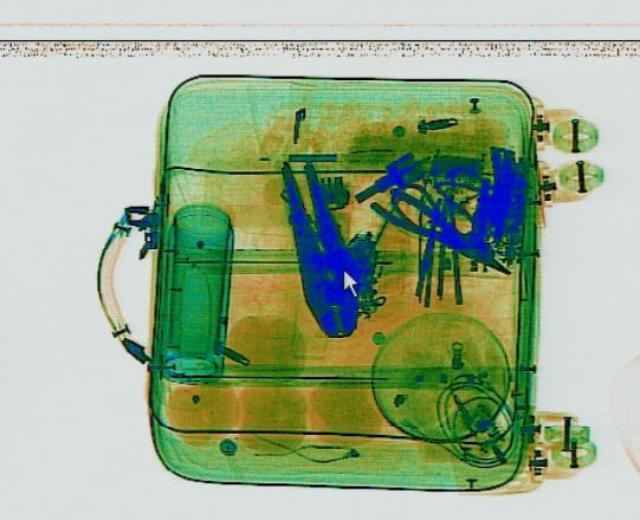Pliers: (269, 155, 371, 337), (365, 181, 523, 283)
